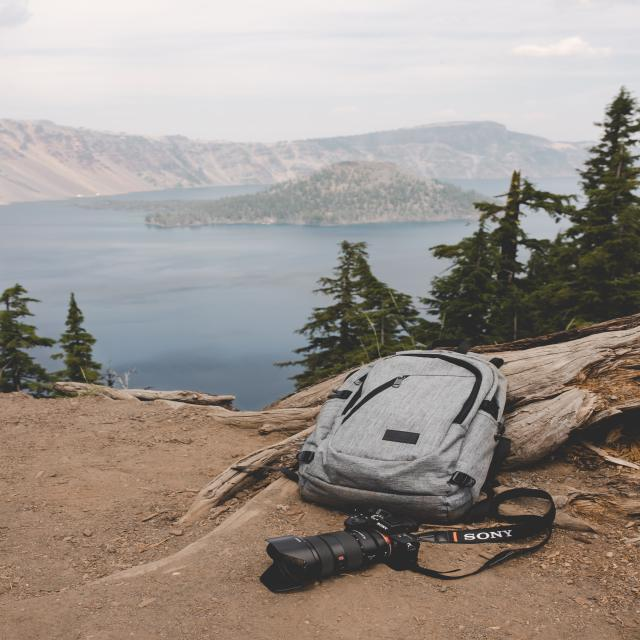backpack: (295, 347, 504, 518)
